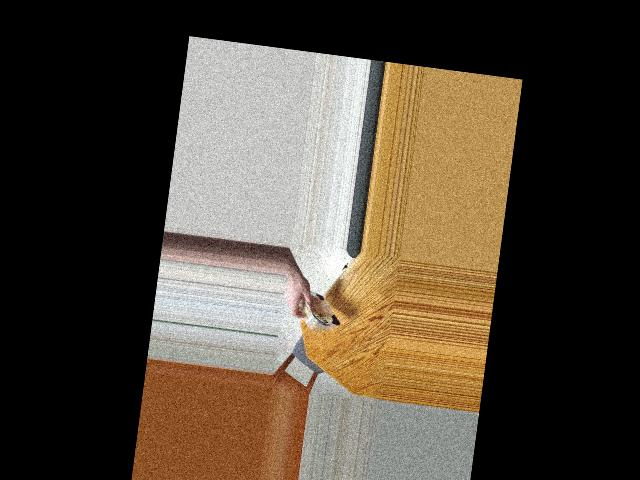cheese: (297, 278, 345, 340)
